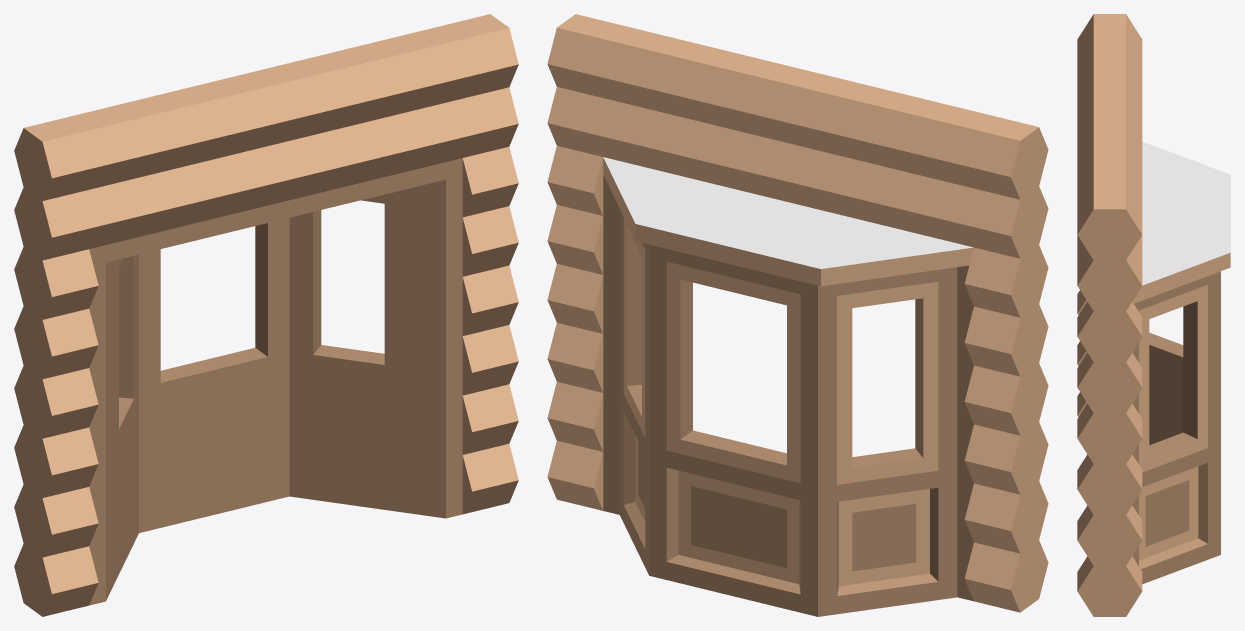
File: cabinWindowLarge.glb
3 renders of one model, left to right at view 1: azimuth 30°, elevation 25°; view 2: azimuth 150°, elevation 25°; view 3: azimuth 270°, elevation 25°, orthographic. The views are drawn at different scales.
Parts seen in each view (by area): view 1: cabinWindowLarge, frame; view 2: frame, cabinWindowLarge; view 3: cabinWindowLarge, frame.
Boxes of the visible parts, box(x1,y1,x2,y2) form: cabinWindowLarge: box(14, 14, 518, 616); frame: box(89, 158, 462, 605); frame: box(603, 157, 973, 616); cabinWindowLarge: box(547, 14, 1048, 612); cabinWindowLarge: box(1077, 14, 1142, 616); frame: box(1132, 141, 1230, 584).
Size of the model in its own units: 1 by 0.9727 by 0.3311.
